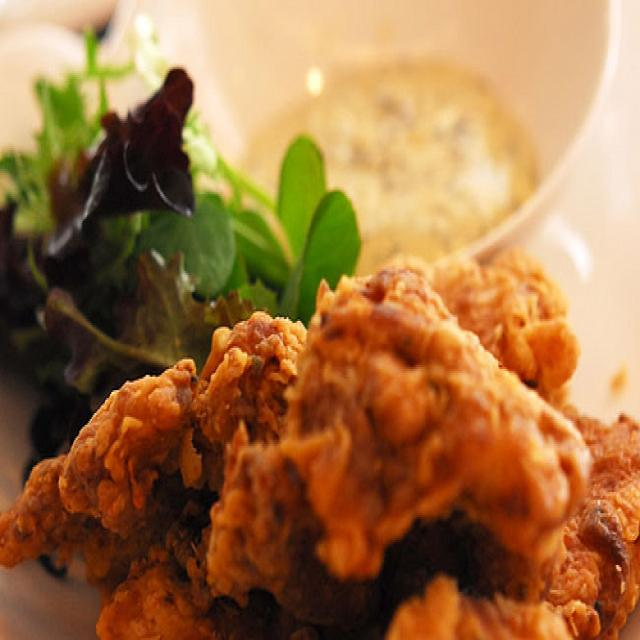鸡肉料理 含炸鸡: (0, 182, 640, 640)
